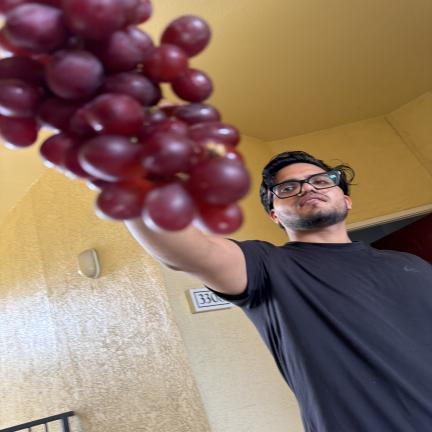grape_cluster: (0, 0, 250, 234)
